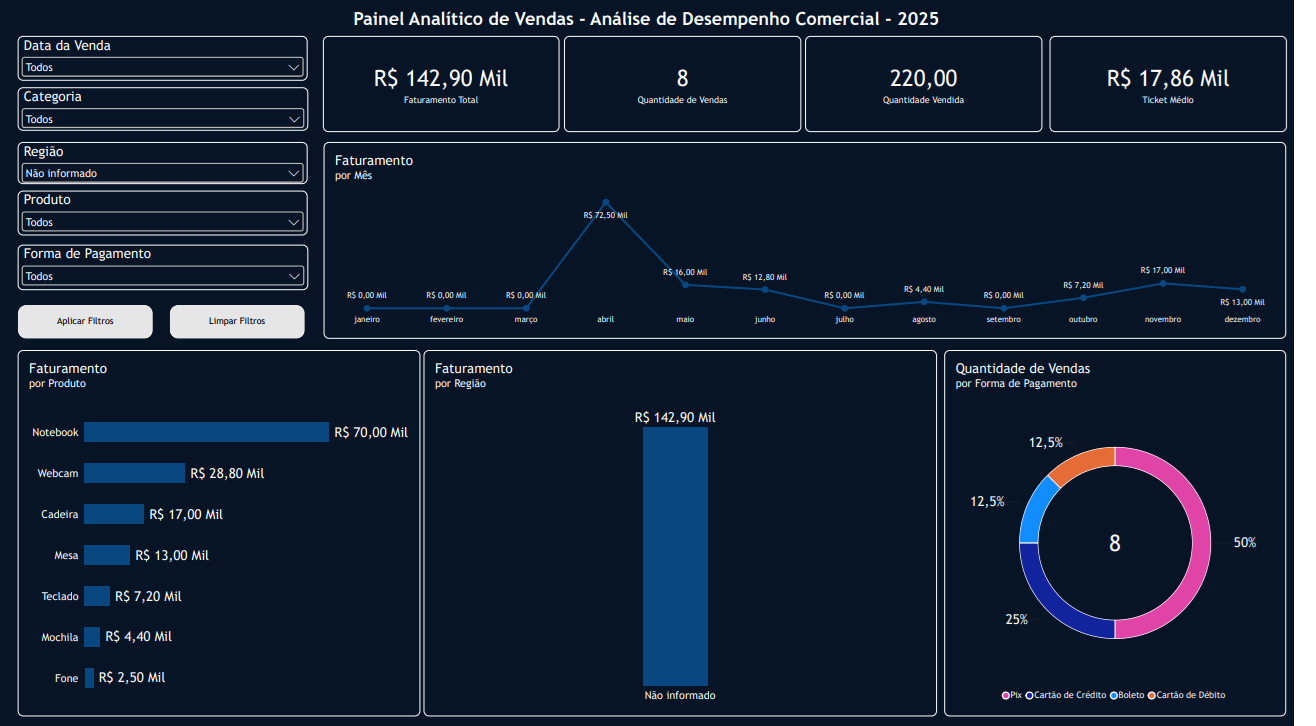

This screenshot's page, from the dashboard's own definition file:
{"tool":"powerbi","page":{"name":"Página 1","canvas":[1920,1080],"ordinal":0},"visuals":[{"type":"card","fields":{"Values":["Medidas.Faturamento_total"]},"box":[481,55.7,350,142.5],"z":0},{"type":"card","fields":{"Values":["Medidas.Quantidade de Vendas"]},"box":[838.2,55.7,351,142.5],"z":1000},{"type":"card","fields":{"Values":["Medidas.Quantidade Vendida"]},"box":[1195.4,55.7,351,142.5],"z":2000},{"type":"card","fields":{"Values":["Medidas.Ticket Médio"]},"box":[1556.6,55.7,351,142.5],"z":3000},{"type":"lineChart","title":"Faturamento","fields":{"Category":["vendas_limpa.Mes_Ano.Variation.Hierarquia de datas.Mês"],"Y":["Medidas.Faturamento Total"]},"box":[481.6,212.6,1425.9,291.9],"z":4000},{"type":"clusteredBarChart","title":"Faturamento","fields":{"Category":["vendas_limpa.Produto"],"Y":["Medidas.Faturamento Total"]},"box":[29.2,521.2,596.2,542],"z":5000},{"type":"clusteredColumnChart","title":"Faturamento","fields":{"Category":["vendas_limpa.Regiao"],"Y":["Medidas.Faturamento Total"]},"box":[629.6,521.2,760.9,542],"z":6000},{"type":"slicer","fields":{"Values":["vendas_limpa.Data_Venda"]},"box":[28.9,55.7,429.4,66.1],"z":7000},{"type":"slicer","fields":{"Values":["vendas_limpa.Categoria"]},"box":[29.5,131.6,430,64.8],"z":8000},{"type":"slicer","fields":{"Values":["vendas_limpa.Regiao"]},"box":[28.9,212.6,429.4,61.9],"z":9000},{"type":"slicer","fields":{"Values":["vendas_limpa.Produto"]},"box":[28.9,284.9,429.4,66.1],"z":10000},{"type":"donutChart","title":"Quantidade de Vendas","fields":{"Category":["vendas_limpa.Forma_Pagamento"],"Y":["Medidas.Quantidade de Vendas"]},"box":[1400.9,521.2,506.6,542],"z":11000},{"type":"textbox","box":[487.7,13.7,944.5,82.5],"z":12000},{"type":"slicer","fields":{"Values":["vendas_limpa.Forma_Pagamento"]},"box":[29.5,365.2,430,66.8],"z":13000},{"type":"actionButton","box":[28.9,454.2,200,50],"z":14000},{"type":"actionButton","box":[253.9,454.2,200.3,49.5],"z":15000}]}

Visuals, with their boxes in screenshot pixels (x1, y1, x2, y2), scaled from the page's 1920x1080 canvas onto the 1316x726 screenshot:
card - Medidas.Faturamento_total: (330,37,570,133)
card - Medidas.Quantidade de Vendas: (575,37,815,133)
card - Medidas.Quantidade Vendida: (819,37,1060,133)
card - Medidas.Ticket Médio: (1067,37,1308,133)
"Faturamento" lineChart: (330,143,1307,339)
"Faturamento" clusteredBarChart: (20,350,429,715)
"Faturamento" clusteredColumnChart: (432,350,953,715)
slicer - vendas_limpa.Data_Venda: (20,37,314,82)
slicer - vendas_limpa.Categoria: (20,88,315,132)
slicer - vendas_limpa.Regiao: (20,143,314,185)
slicer - vendas_limpa.Produto: (20,192,314,236)
"Quantidade de Vendas" donutChart: (960,350,1307,715)
textbox: (334,9,982,65)
slicer - vendas_limpa.Forma_Pagamento: (20,245,315,290)
actionButton: (20,305,157,339)
actionButton: (174,305,311,339)
